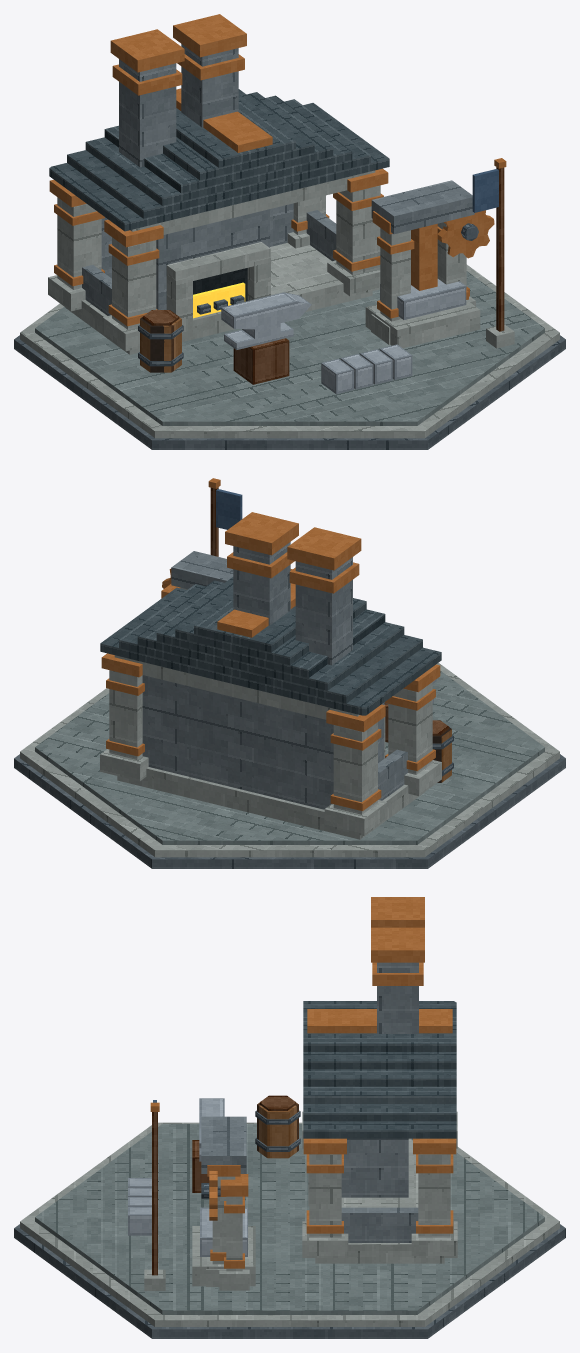
The model's file is dwarf_workshop_hex_v1.glb.
3 views of the same model, one above another, from view 1: azimuth 30°, elevation 25°; view 2: azimuth 150°, elevation 25°; view 3: azimuth 270°, elevation 25° (orthographic).
Parts seen in each view (by area): view 1: Dwarf_Workshop_Hex_V1_Foundation, Dwarf_Workshop_Hex_V1_Focus, Dwarf_Workshop_Hex_V1_Roofs, Dwarf_Workshop_Hex_V1_Structure, Dwarf_Workshop_Hex_V1_Details, Dwarf_Workshop_Hex_V1_Hall, Dwarf_Workshop_Hex_V1_Faction; view 2: Dwarf_Workshop_Hex_V1_Foundation, Dwarf_Workshop_Hex_V1_Hall, Dwarf_Workshop_Hex_V1_Roofs, Dwarf_Workshop_Hex_V1_Structure, Dwarf_Workshop_Hex_V1_Details, Dwarf_Workshop_Hex_V1_Focus, Dwarf_Workshop_Hex_V1_Faction; view 3: Dwarf_Workshop_Hex_V1_Foundation, Dwarf_Workshop_Hex_V1_Roofs, Dwarf_Workshop_Hex_V1_Focus, Dwarf_Workshop_Hex_V1_Details, Dwarf_Workshop_Hex_V1_Structure, Dwarf_Workshop_Hex_V1_Hall.
Part boxes in pixels (x1,y1,x2,y2): Dwarf_Workshop_Hex_V1_Foundation: (14, 264, 565, 449); Dwarf_Workshop_Hex_V1_Focus: (119, 44, 494, 384); Dwarf_Workshop_Hex_V1_Roofs: (49, 88, 389, 231); Dwarf_Workshop_Hex_V1_Structure: (48, 168, 475, 351); Dwarf_Workshop_Hex_V1_Details: (54, 14, 514, 394); Dwarf_Workshop_Hex_V1_Hall: (65, 203, 372, 354); Dwarf_Workshop_Hex_V1_Faction: (472, 169, 498, 212); Dwarf_Workshop_Hex_V1_Foundation: (14, 663, 565, 868); Dwarf_Workshop_Hex_V1_Hall: (117, 675, 424, 839); Dwarf_Workshop_Hex_V1_Roofs: (100, 569, 441, 715); Dwarf_Workshop_Hex_V1_Structure: (100, 584, 441, 835); Dwarf_Workshop_Hex_V1_Details: (106, 478, 453, 811); Dwarf_Workshop_Hex_V1_Focus: (162, 542, 436, 762); Dwarf_Workshop_Hex_V1_Faction: (216, 489, 242, 529); Dwarf_Workshop_Hex_V1_Foundation: (14, 1122, 565, 1338); Dwarf_Workshop_Hex_V1_Roofs: (303, 1001, 456, 1138); Dwarf_Workshop_Hex_V1_Focus: (192, 962, 418, 1286); Dwarf_Workshop_Hex_V1_Details: (128, 897, 453, 1290); Dwarf_Workshop_Hex_V1_Structure: (206, 1111, 457, 1290); Dwarf_Workshop_Hex_V1_Hall: (315, 1138, 444, 1263).
Size of the model in its own units: 1.59 by 1.05 by 1.84.
1 material, 1 textured.
